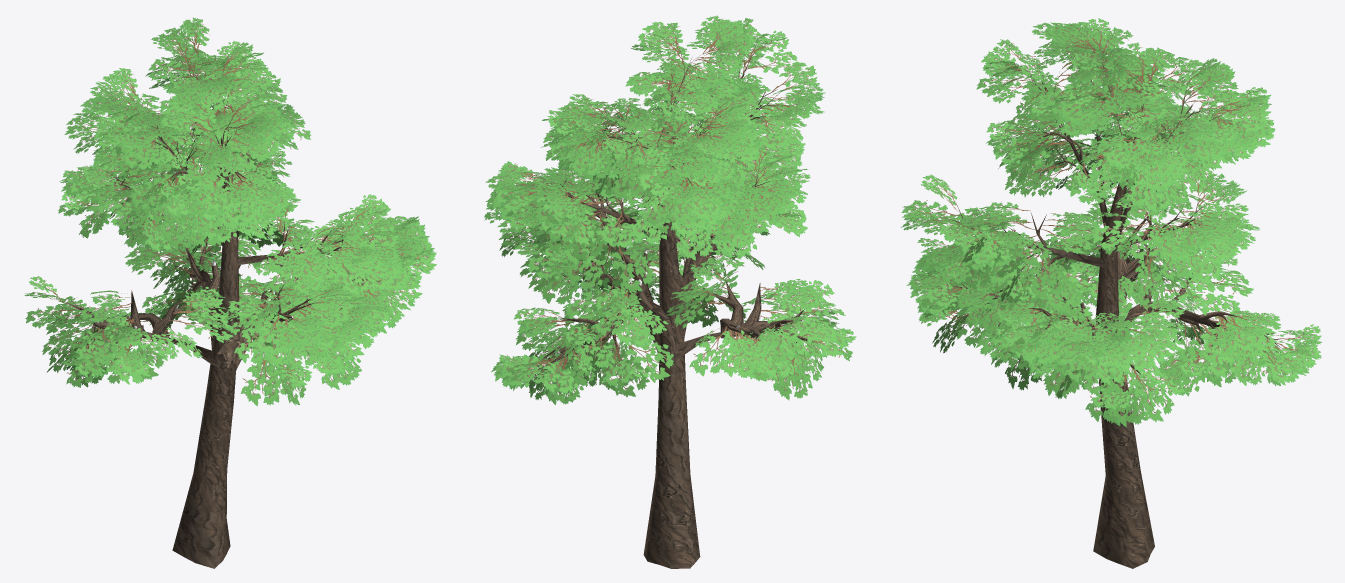
Rendered from big-2-_2.fbx.
3 views of the same model, side by side, from view 1: azimuth 30°, elevation 25°; view 2: azimuth 150°, elevation 25°; view 3: azimuth 270°, elevation 25° (orthographic). The views are drawn at different scales.
Visible parts, largest first — view 1: big_2__2; view 2: big_2__2; view 3: big_2__2.
Boxes of the visible parts, x1,y1,x2,y2 form: big_2__2: (24, 17, 436, 568); big_2__2: (484, 15, 856, 568); big_2__2: (901, 18, 1322, 568).
Size of the model in its own units: 21.35 by 27.15 by 20.62.
3 materials, 2 textured.
